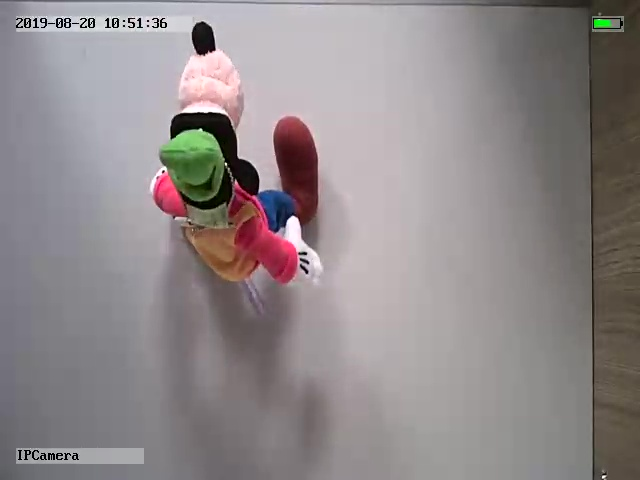goofy: (148, 23, 327, 293)
